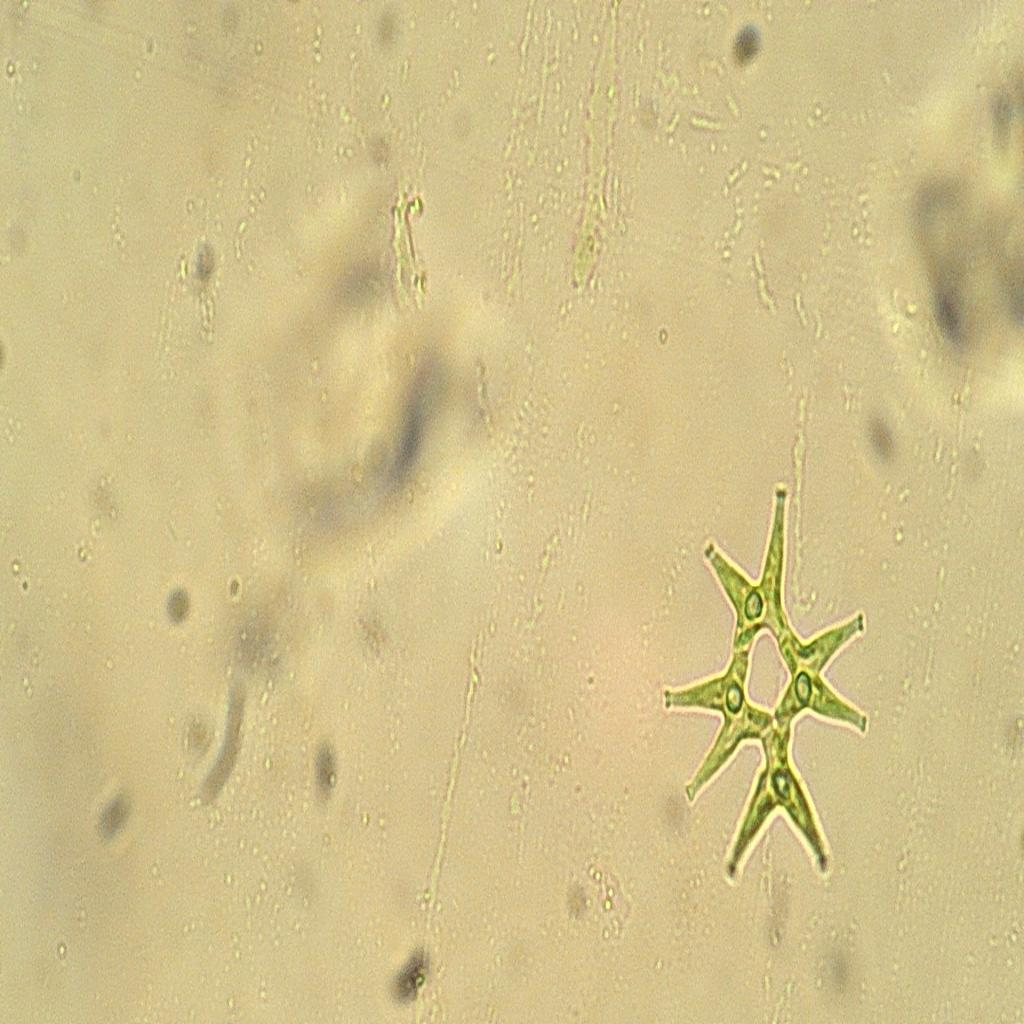Pediastrum_75FI: (660, 466, 882, 926)
